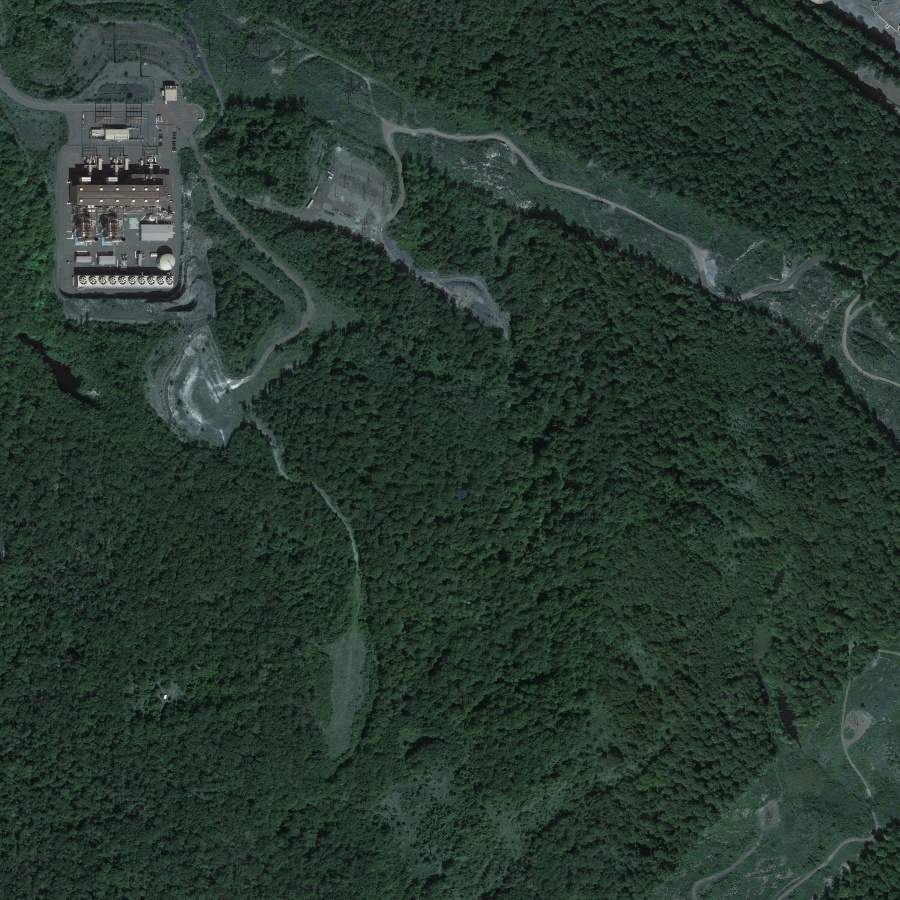PowerPlant: (60, 65, 206, 305)
